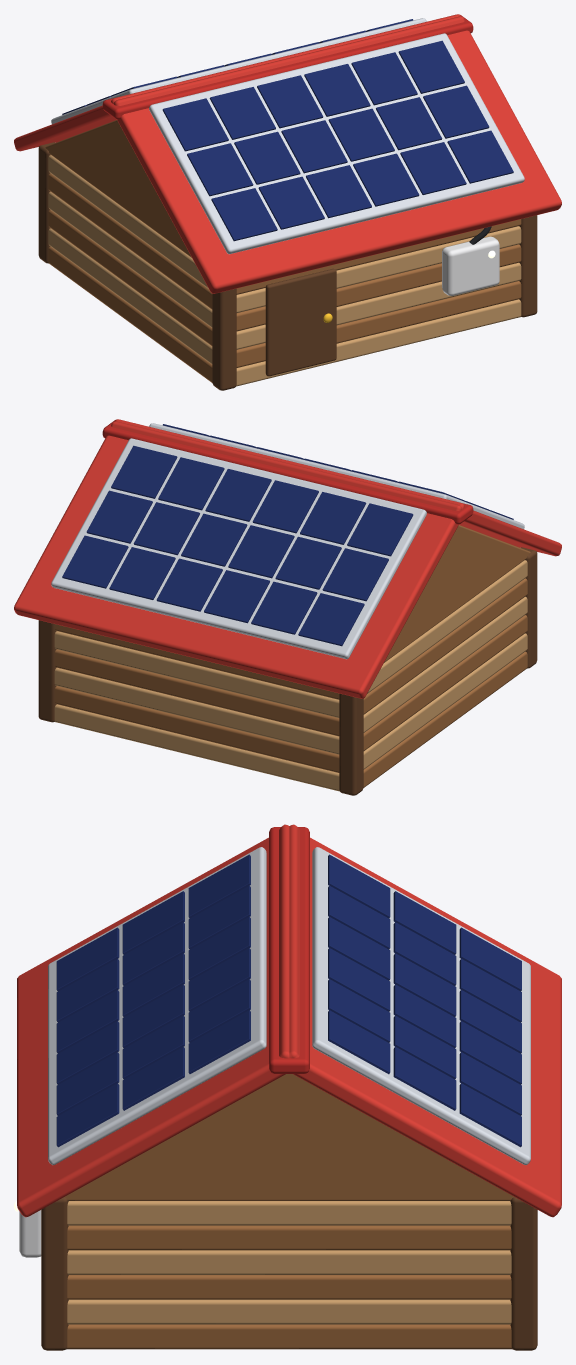
File: SolarSmall.fbx
3 renders of one model, top to bottom at view 1: azimuth 30°, elevation 25°; view 2: azimuth 150°, elevation 25°; view 3: azimuth 270°, elevation 25°, orthographic. The views are drawn at different scales.
Parts seen in each view (by area): view 1: Body__SolarCell, Body__Red, Body__Wood, Body__WoodLight, Body__Chrome, Body__WoodDark, Body__RedMetal, Body__White; view 2: Body__SolarCell, Body__Wood, Body__Red, Body__WoodLight, Body__Chrome, Body__WoodDark, Body__RedMetal; view 3: Body__SolarCell, Body__Wood, Body__Red, Body__WoodLight, Body__Chrome, Body__WoodDark, Body__RedMetal, Body__White.
Part boxes in pixels (x1=…): Body__SolarCell: x1=62, y1=19, x2=513, y2=241; Body__Red: x1=14, y1=14, x2=561, y2=293; Body__Wood: x1=45, y1=120, x2=521, y2=382; Body__WoodLight: x1=48, y1=155, x2=521, y2=386; Body__Chrome: x1=51, y1=18, x2=524, y2=254; Body__WoodDark: x1=38, y1=142, x2=537, y2=390; Body__RedMetal: x1=102, y1=15, x2=473, y2=119; Body__White: x1=442, y1=236, x2=499, y2=295; Body__SolarCell: x1=62, y1=424, x2=513, y2=646; Body__Wood: x1=54, y1=525, x2=530, y2=787; Body__Red: x1=14, y1=419, x2=561, y2=698; Body__WoodLight: x1=54, y1=560, x2=527, y2=791; Body__Chrome: x1=51, y1=423, x2=524, y2=659; Body__WoodDark: x1=38, y1=547, x2=537, y2=795; Body__RedMetal: x1=102, y1=420, x2=473, y2=524; Body__SolarCell: x1=56, y1=854, x2=521, y2=1147; Body__Wood: x1=64, y1=1074, x2=514, y2=1349; Body__Red: x1=17, y1=824, x2=561, y2=1217; Body__WoodLight: x1=67, y1=1201, x2=511, y2=1324; Body__Chrome: x1=48, y1=847, x2=530, y2=1165; Body__WoodDark: x1=41, y1=1197, x2=537, y2=1350; Body__RedMetal: x1=269, y1=827, x2=309, y2=1073; Body__White: x1=19, y1=1210, x2=41, y2=1257.
Size of the model in its own units: 4.1 by 3 by 4.02.
